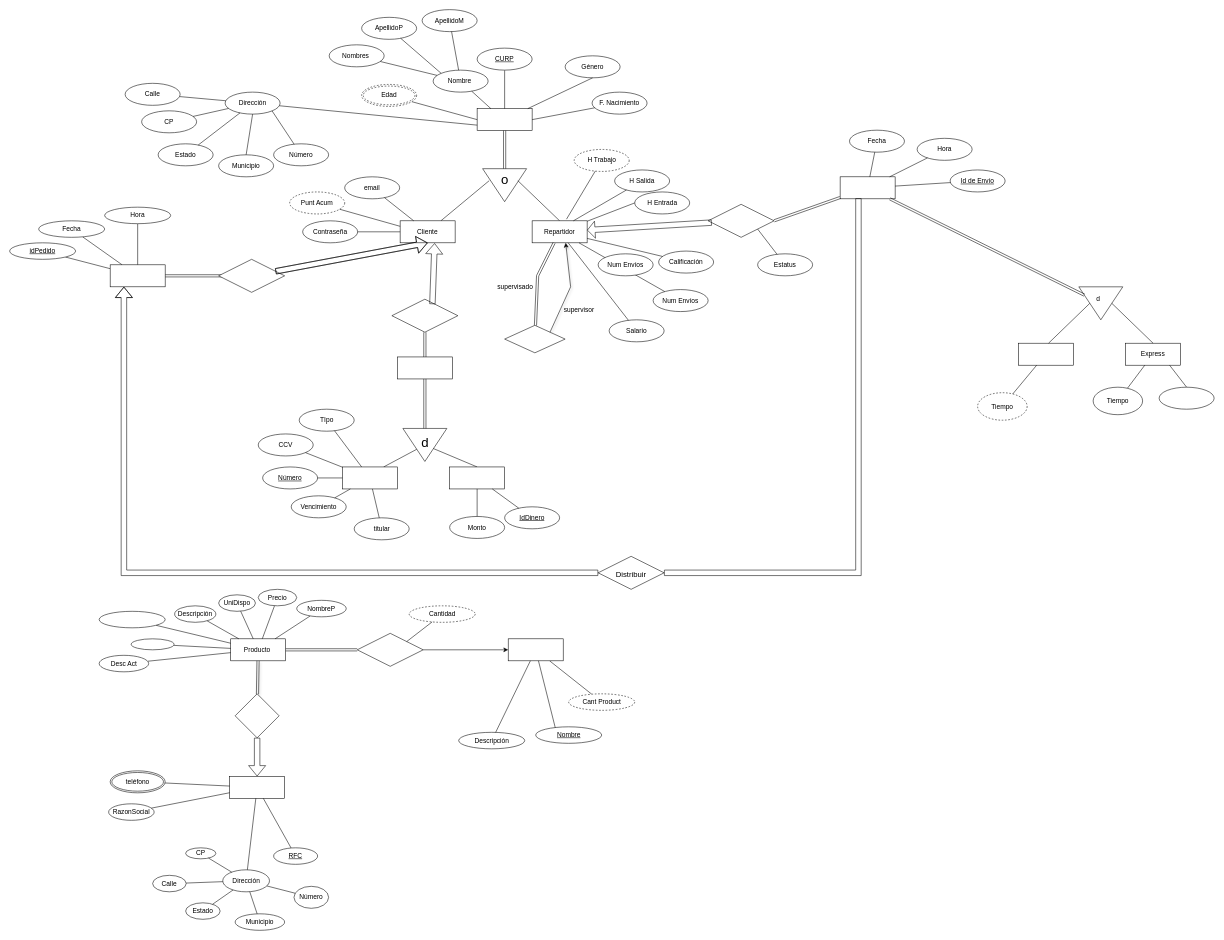
Some shapes in this 1224 by 940 pixel diagram are drawn without their labels. The centre of each missing label's shape, as x and y in pixels:
"Categoría" goes at (x=535, y=649).
"Costo Extra" goes at (x=1186, y=398).
"Efectivo" goes at (x=477, y=477).
"Entregar" goes at (x=741, y=220).
"Envío" goes at (x=867, y=187).
"idProducto" goes at (x=132, y=619).
"Método de pago" goes at (x=424, y=367).
"Nom Arch" goes at (x=152, y=644).
"Normal" goes at (x=1045, y=354).
"Ofrecer" goes at (x=257, y=715).
"Pedido" goes at (x=137, y=275).
"Persona" goes at (x=504, y=119).
"Pertenecer" goes at (x=390, y=649).
"Proveedor" goes at (x=257, y=787).
"Realizar" goes at (x=251, y=275).
"Supervisar" goes at (x=534, y=339).
"Tarjeta" goes at (x=369, y=477).
"Tener" goes at (x=424, y=315).
